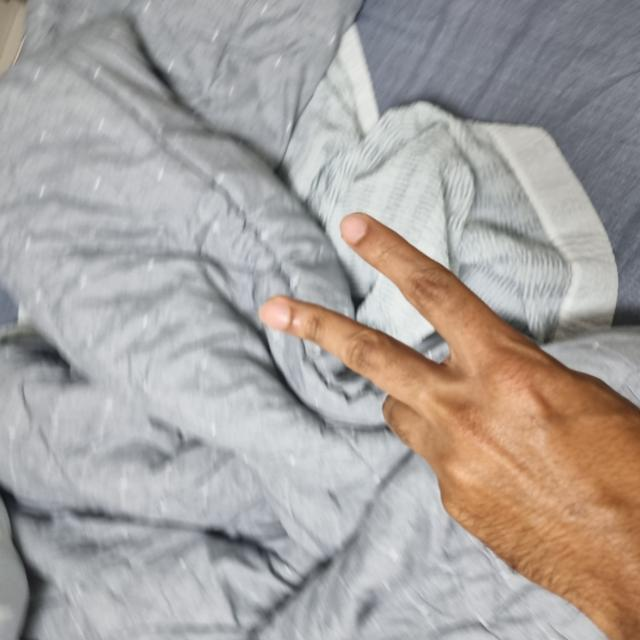Scissors: (0, 262, 424, 638)
